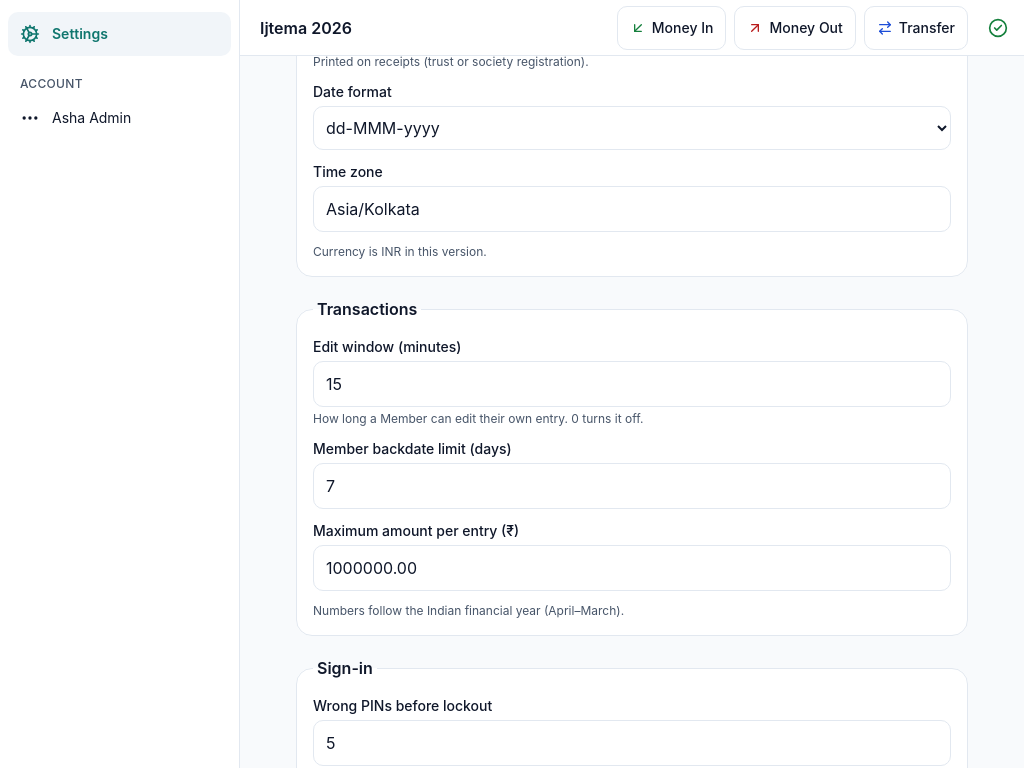
Test: Settings › lists what will change before saving, then saves
(page scrolled)
Replace the text in the field labelled "Edit window (minutes)" with "30" at [632, 384], box [314,362,950,406]
(page scrolled)
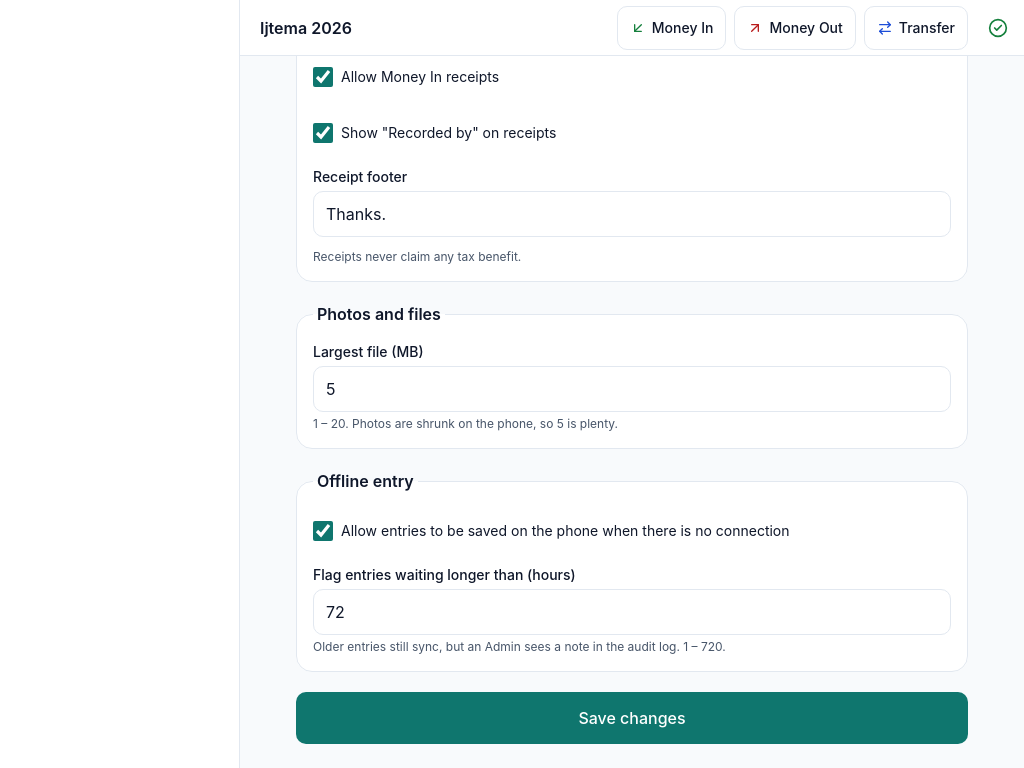
Click the button "Save changes" at [632, 718], box [296,692,968,744]
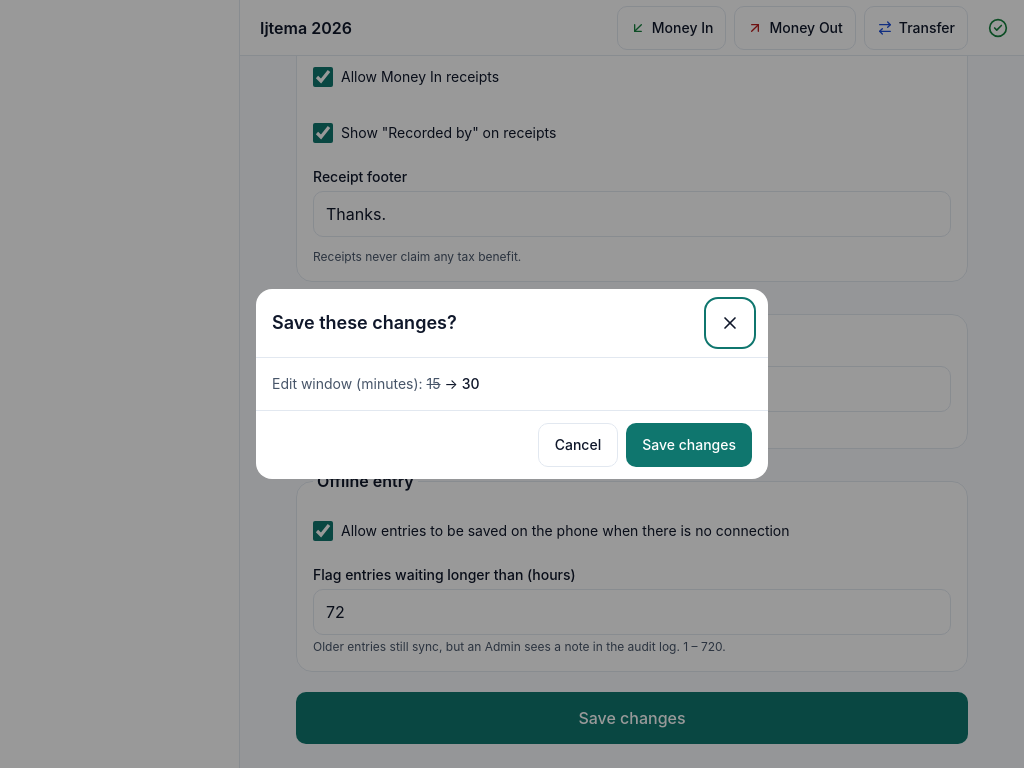
expect the text "15" is shown: met, box [426,375,440,392]
expect the text "30" is shown: met, box [462,375,480,392]
Click the button "Save changes" at [689, 445], box [626,423,752,467]
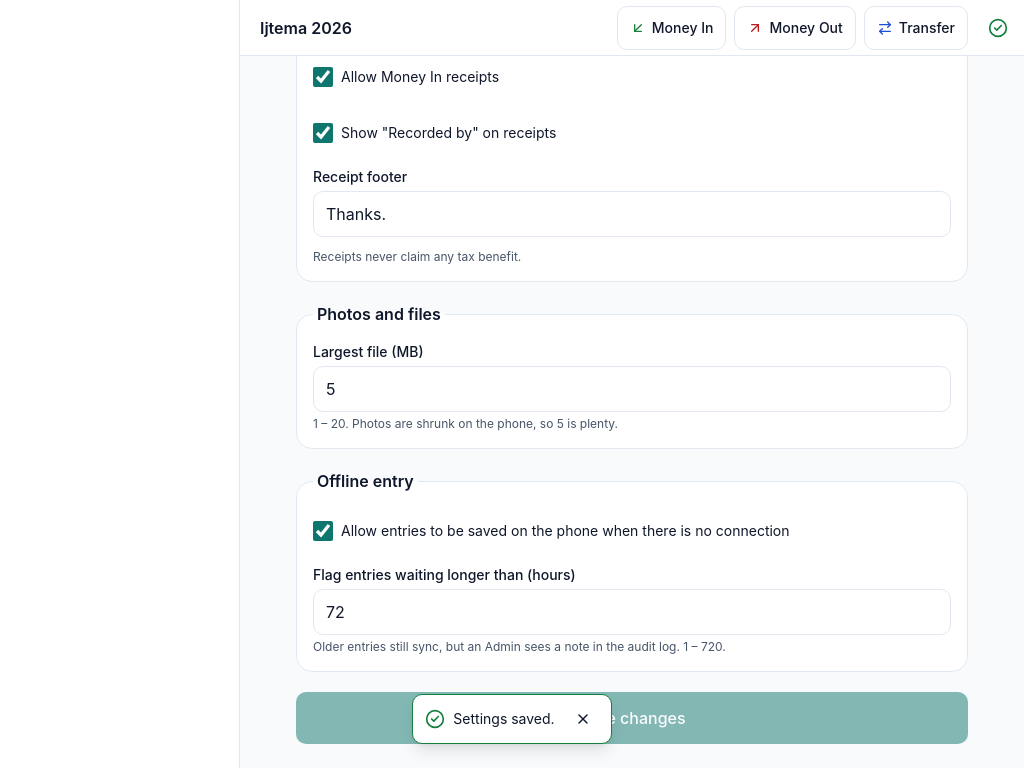
expect the text "Settings saved." is shown: met, box [453,709,555,729]
